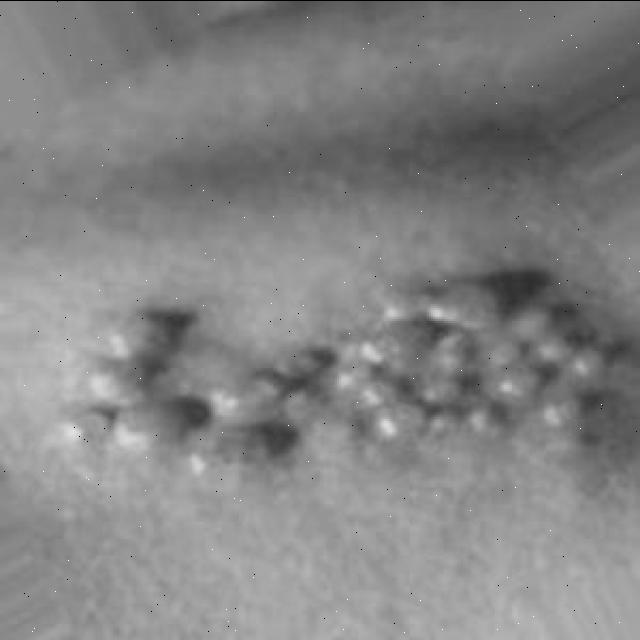Shingles: (49, 268, 640, 476)
